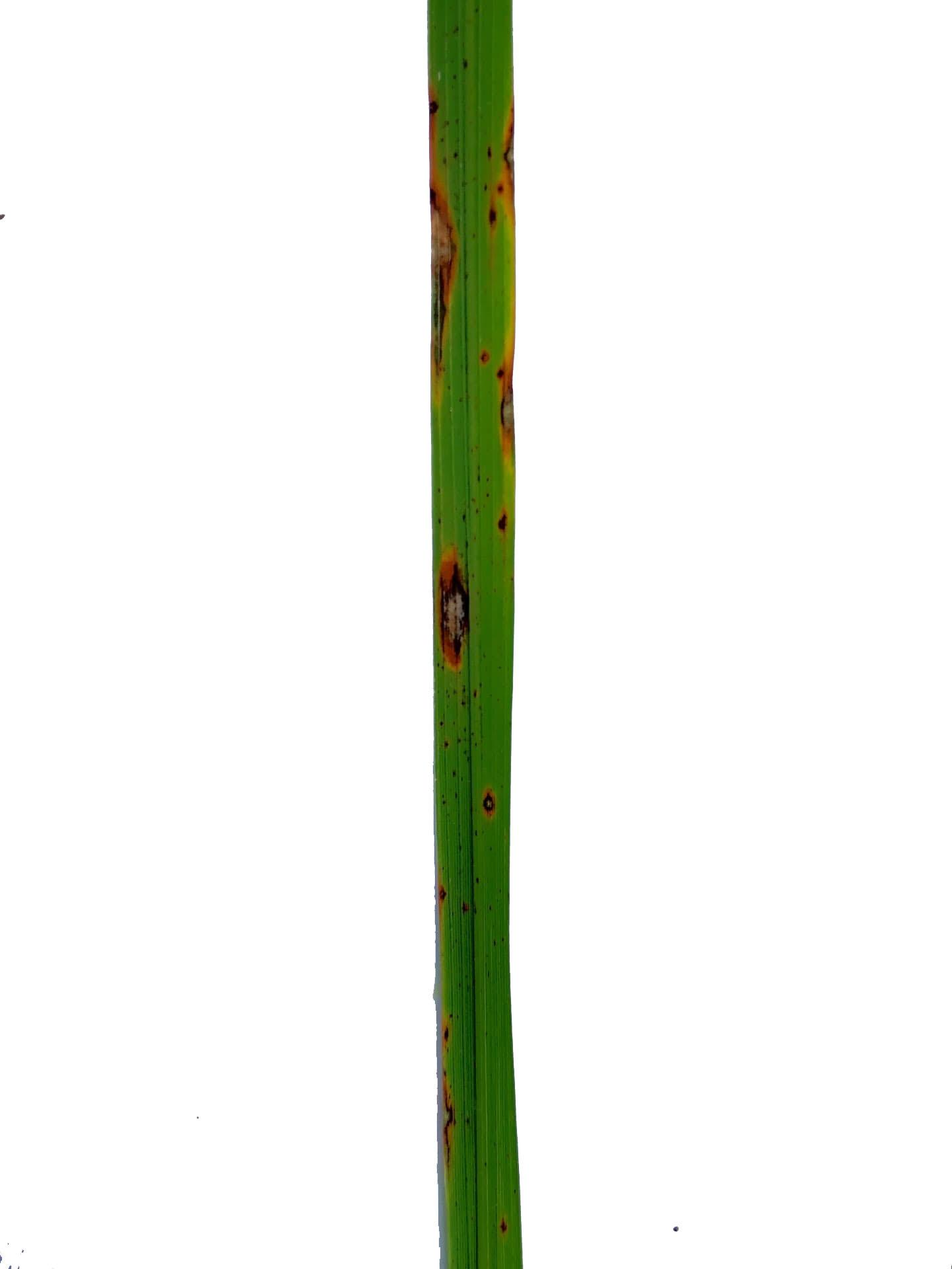Rice blast: (426, 165, 466, 413), (430, 555, 479, 681), (469, 767, 509, 829)
